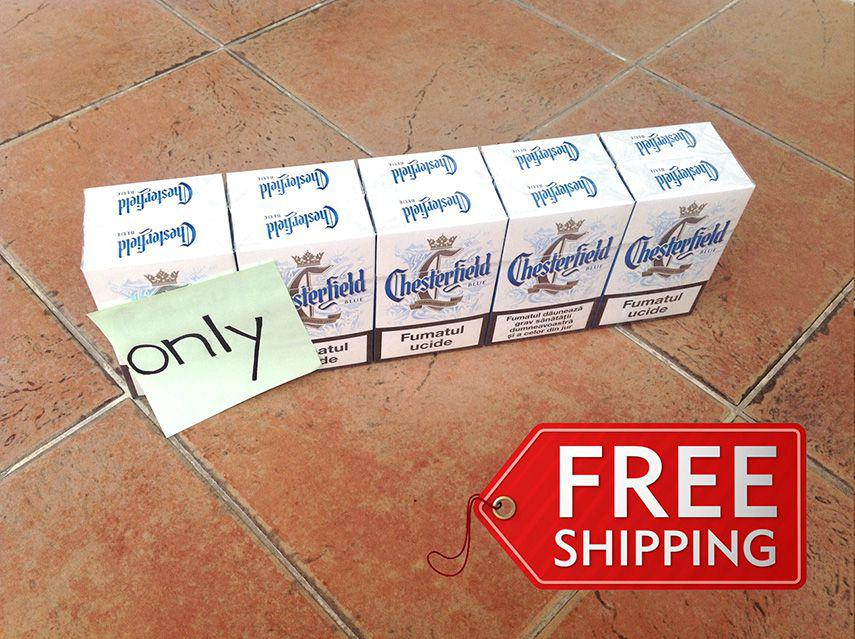chesterfield_blue: (244, 234, 370, 370), (378, 220, 494, 352), (502, 204, 616, 332), (618, 200, 730, 316)
